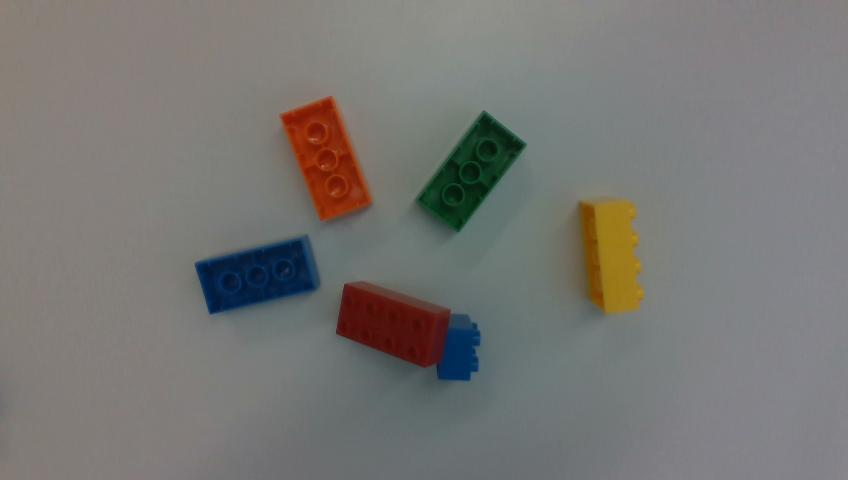2x2_blue: (437, 314, 480, 380)
4x2_blue: (196, 235, 319, 313)
4x2_green: (418, 111, 525, 231)
4x2_orange: (281, 96, 370, 219)
4x2_red: (336, 282, 450, 366)
4x2_yellow: (579, 200, 643, 313)
